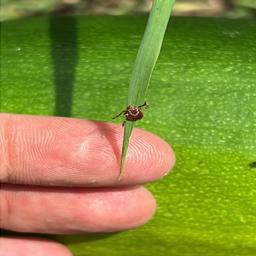Dermacentor variabilis: (112, 103, 148, 128)
